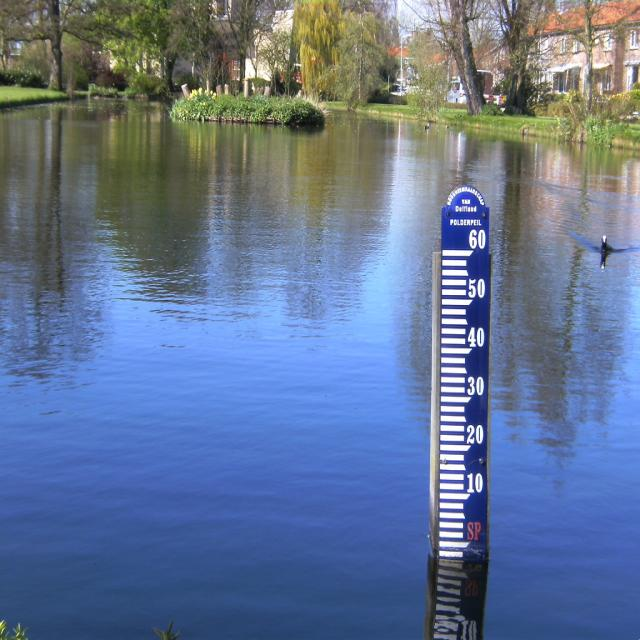ruler: (425, 171, 502, 580)
value: (464, 418, 486, 448), (465, 324, 488, 351), (464, 373, 487, 399), (466, 276, 488, 301), (467, 225, 487, 252), (466, 468, 484, 498)
